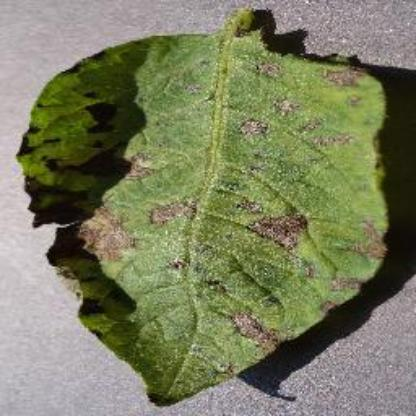Early-Blight: (15, 2, 415, 408)
